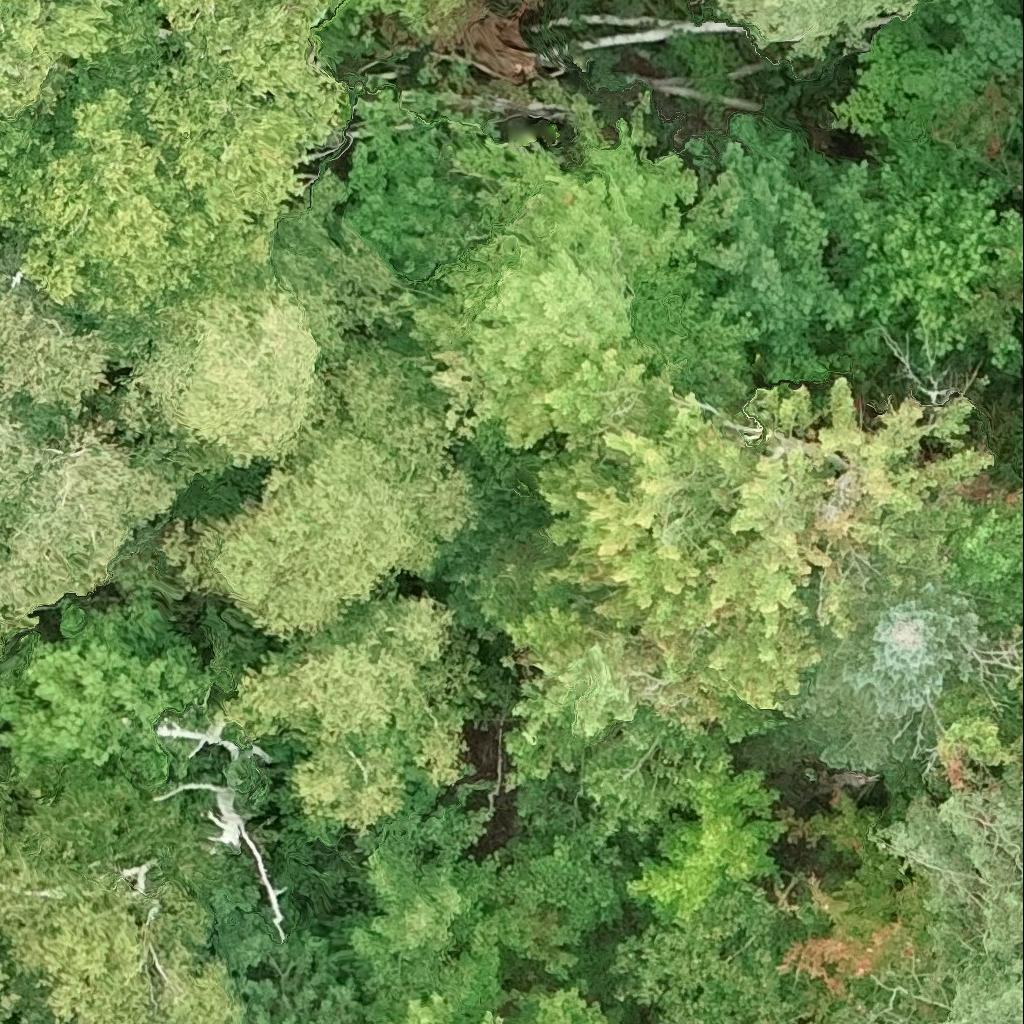crown: (539, 352, 989, 709), (14, 0, 356, 370), (406, 131, 755, 446), (164, 344, 491, 646), (118, 170, 413, 479), (707, 115, 1009, 372), (227, 596, 484, 840), (502, 610, 787, 830), (0, 761, 238, 1023), (0, 398, 200, 649), (354, 842, 614, 1023), (772, 776, 956, 1023), (0, 604, 232, 796), (873, 771, 1023, 1023), (805, 585, 988, 771), (627, 726, 793, 924), (0, 0, 125, 231), (340, 93, 486, 290), (613, 889, 794, 1023), (0, 245, 117, 438), (702, 0, 925, 58), (0, 958, 36, 1023), (1019, 486, 1023, 501)
